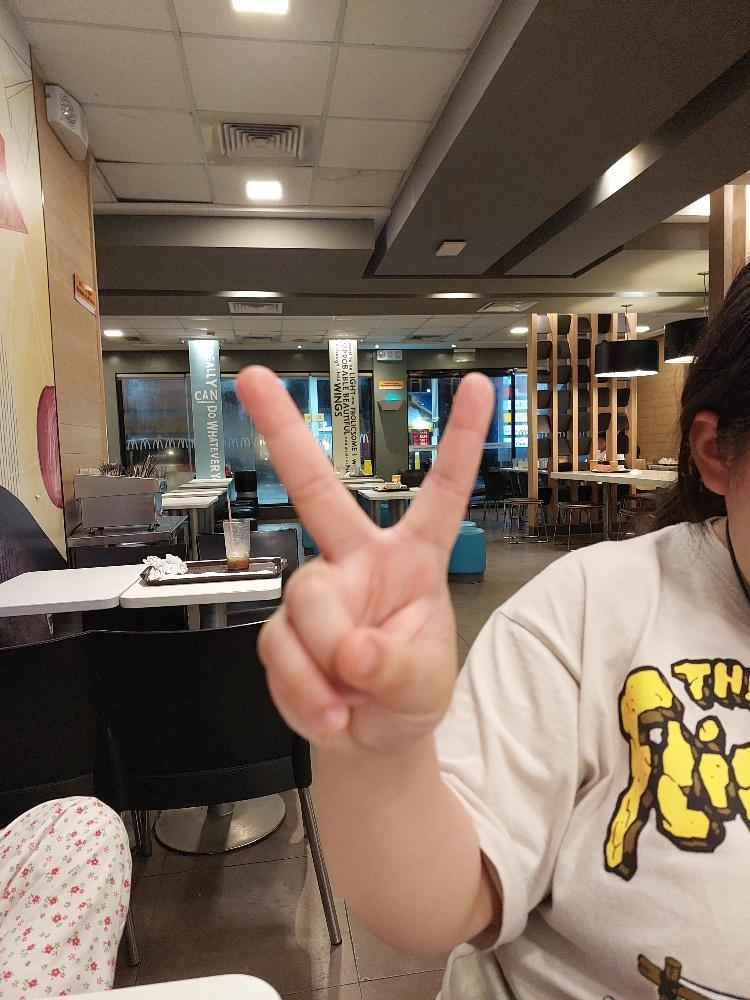v: (232, 361, 495, 753)
